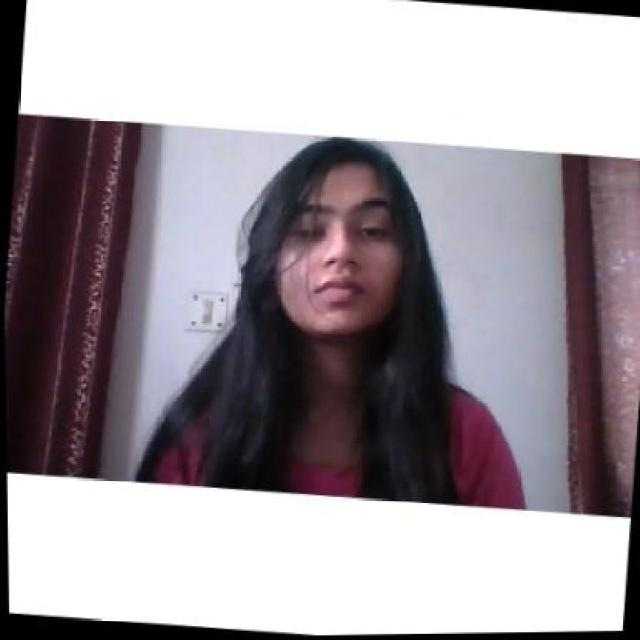attentif: (268, 132, 410, 336)
